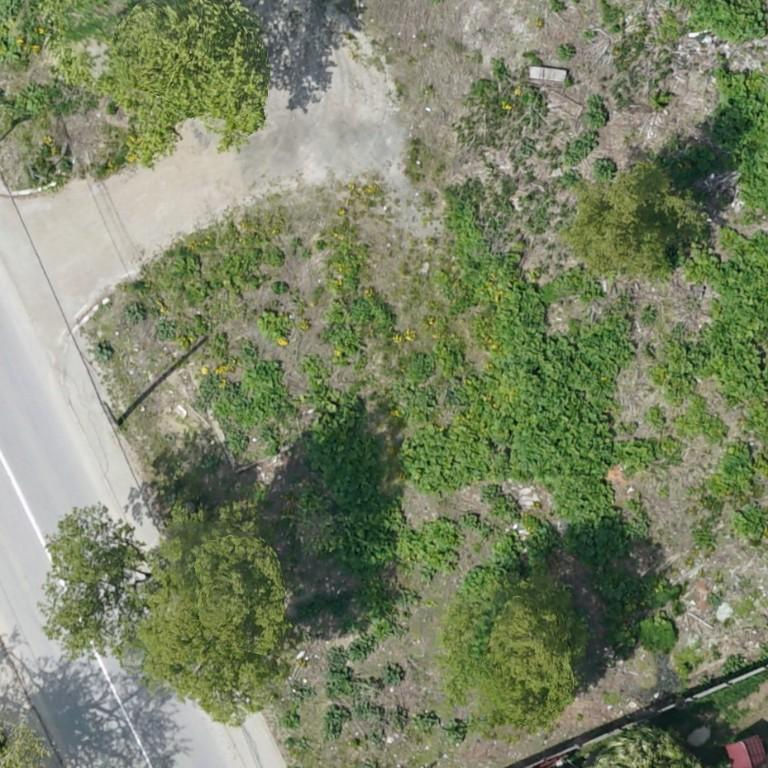hogweed: (399, 251, 654, 649), (309, 386, 459, 581), (646, 228, 767, 440), (708, 67, 767, 208), (200, 362, 288, 449), (683, 0, 767, 42), (463, 531, 518, 594), (705, 442, 767, 493), (481, 487, 519, 519), (393, 389, 435, 415), (732, 503, 767, 533), (565, 134, 597, 164), (351, 297, 385, 324), (584, 99, 607, 126), (408, 356, 433, 380), (592, 160, 617, 181), (463, 513, 479, 528)
